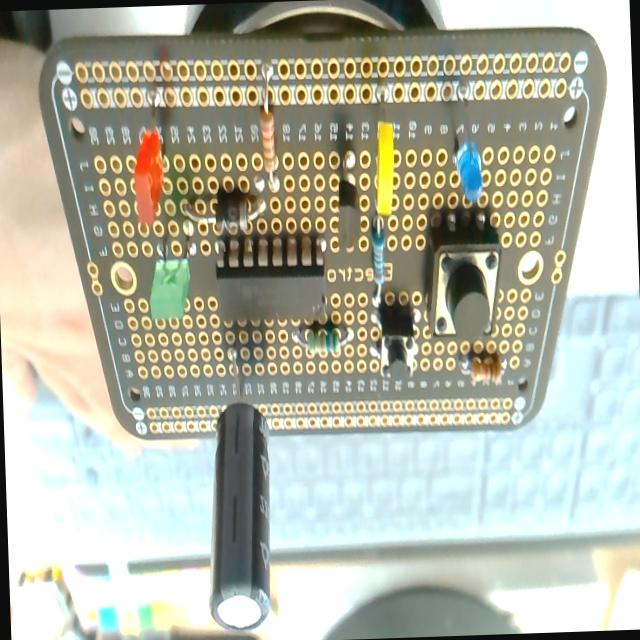Electrolytic capacitor: (202, 331, 276, 628)
IC: (212, 238, 324, 328)
diode: (185, 189, 266, 233)
led: (132, 66, 170, 223), (363, 85, 402, 216), (147, 250, 191, 322), (454, 141, 484, 204)
resistor: (256, 64, 280, 190), (292, 318, 354, 358), (368, 208, 391, 310), (460, 350, 504, 386)
switch: (426, 220, 505, 344), (371, 298, 419, 379)
transistor: (334, 149, 361, 247)
